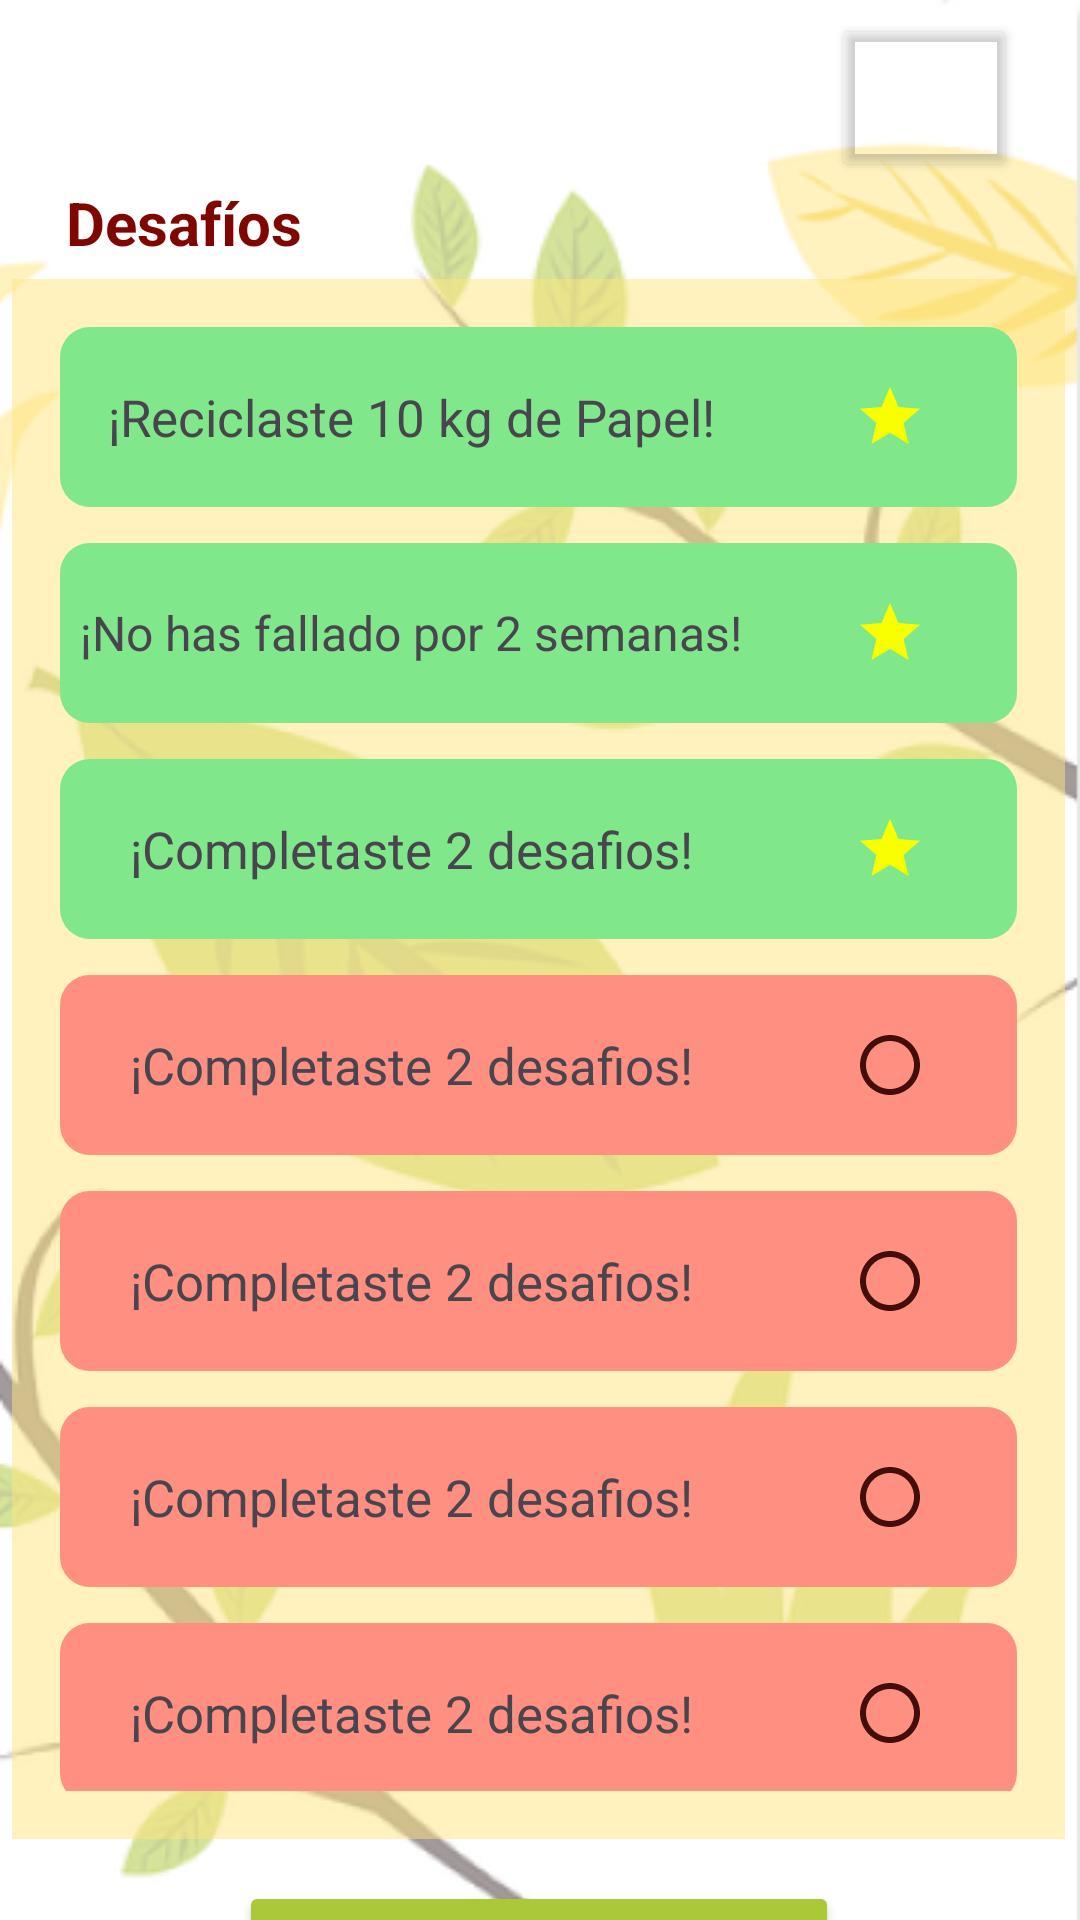

Icons on this 1080px x 1920px Android screen, each with the point to tap as (x=x, y=y):
radio unchecked: (x=890, y=1065), (x=890, y=1281), (x=890, y=1497), (x=890, y=1713)
star: (x=890, y=417), (x=890, y=633), (x=890, y=849)
